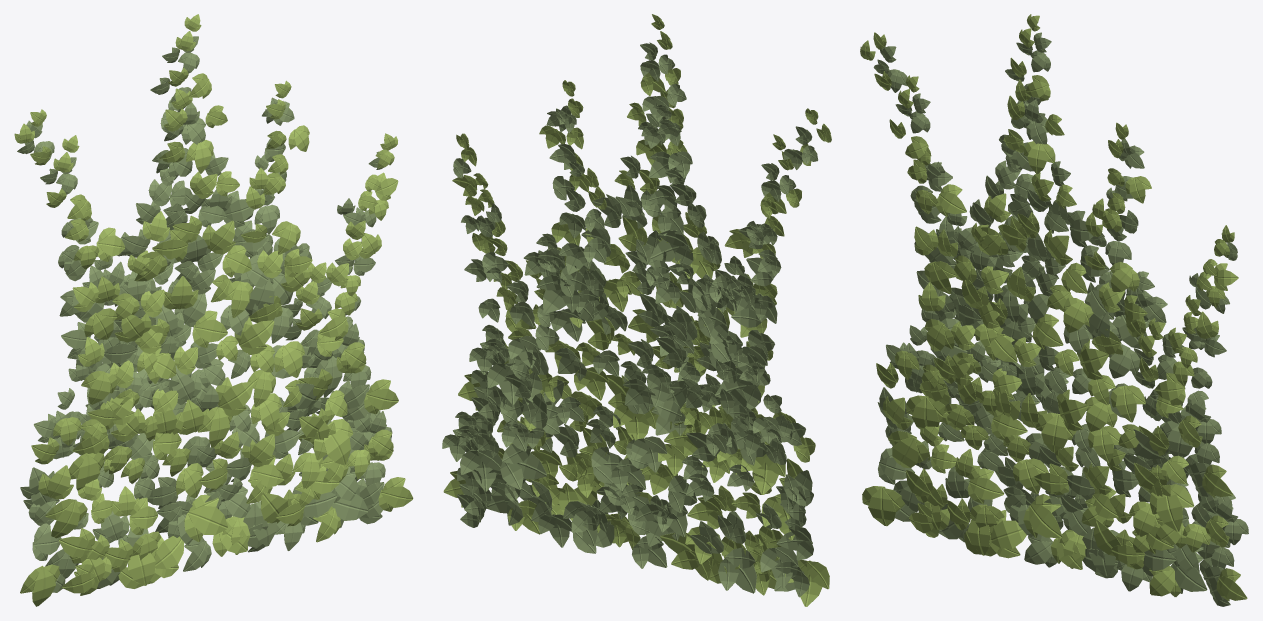
The model's file is full_englishivy.fbx.
3 views of the same model, side by side, from view 1: azimuth 30°, elevation 25°; view 2: azimuth 150°, elevation 25°; view 3: azimuth 330°, elevation 25° (orthographic).
Visible parts, largest first — view 1: EnglishIvy_Full; view 2: EnglishIvy_Full; view 3: EnglishIvy_Full.
Part boxes in pixels (x1,y1,x2,y2): EnglishIvy_Full: (14,14,413,606); EnglishIvy_Full: (442,14,831,606); EnglishIvy_Full: (860,14,1248,606).
Size of the model in its own units: 5.14 by 6.96 by 0.3698.
